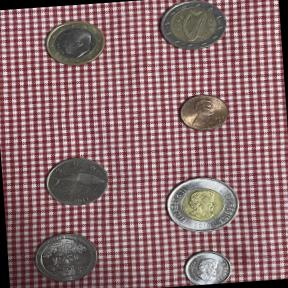1 Euro-B: (38, 11, 115, 74)
2 Euro-B: (154, 0, 234, 55)
Canada-10cent-B: (178, 246, 235, 286)
Canada-2Dollar-B: (158, 171, 248, 239)
Croatia-2Kune-B: (38, 150, 118, 216)
US-1cent-B: (174, 90, 233, 136)
US-25cent-B: (25, 224, 104, 288)
